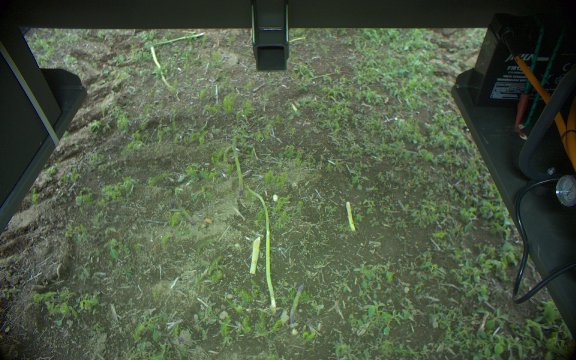aspa: (241, 185, 276, 312), (229, 136, 246, 201), (284, 280, 307, 328), (168, 201, 195, 226), (341, 198, 356, 232)
